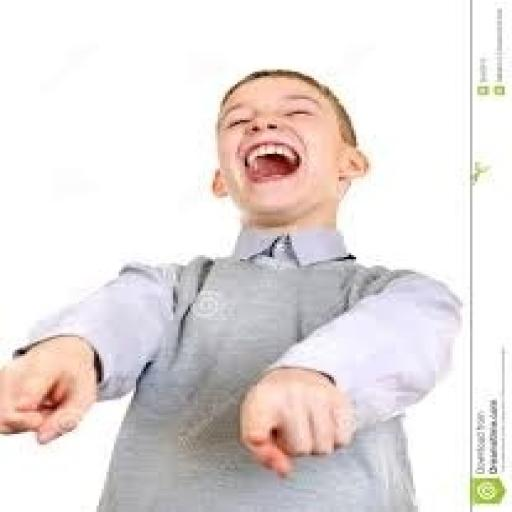laughing: (0, 61, 465, 510)
